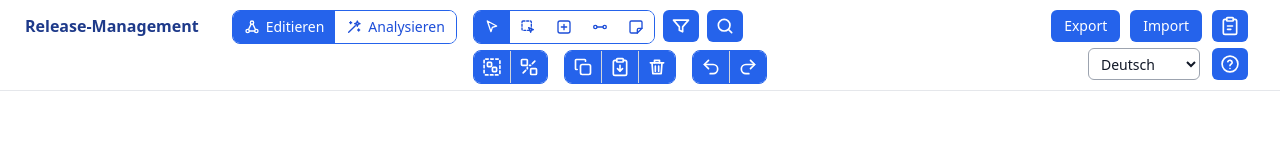
Toolbar › icons and tooltips › names the export formats in the Export tooltip and explains the JSON paste button
Hover over the button "Export".
mouse_move(1086, 26)  # box [1051,10,1120,42]
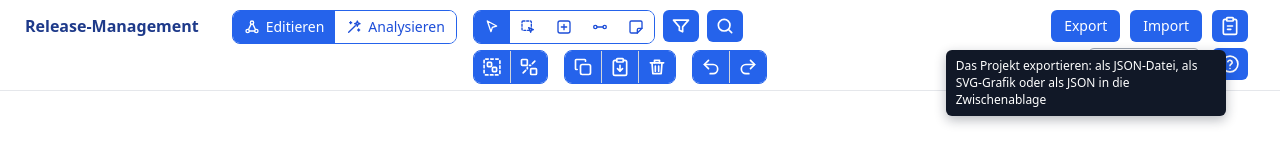
Hover over the button named "JSON einfügen".
mouse_move(1230, 26)  # box [1212,10,1248,42]
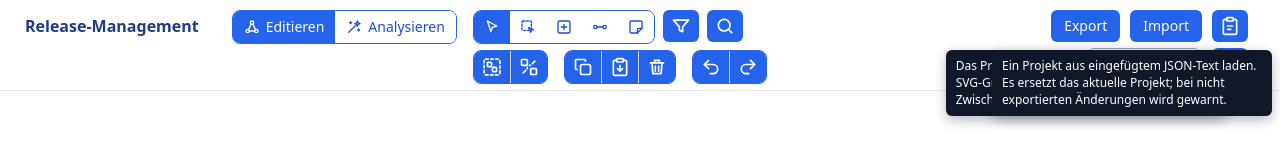
Now the text "eingefügtem JSON-Text" is shown, box [1002,57,1257,108]
